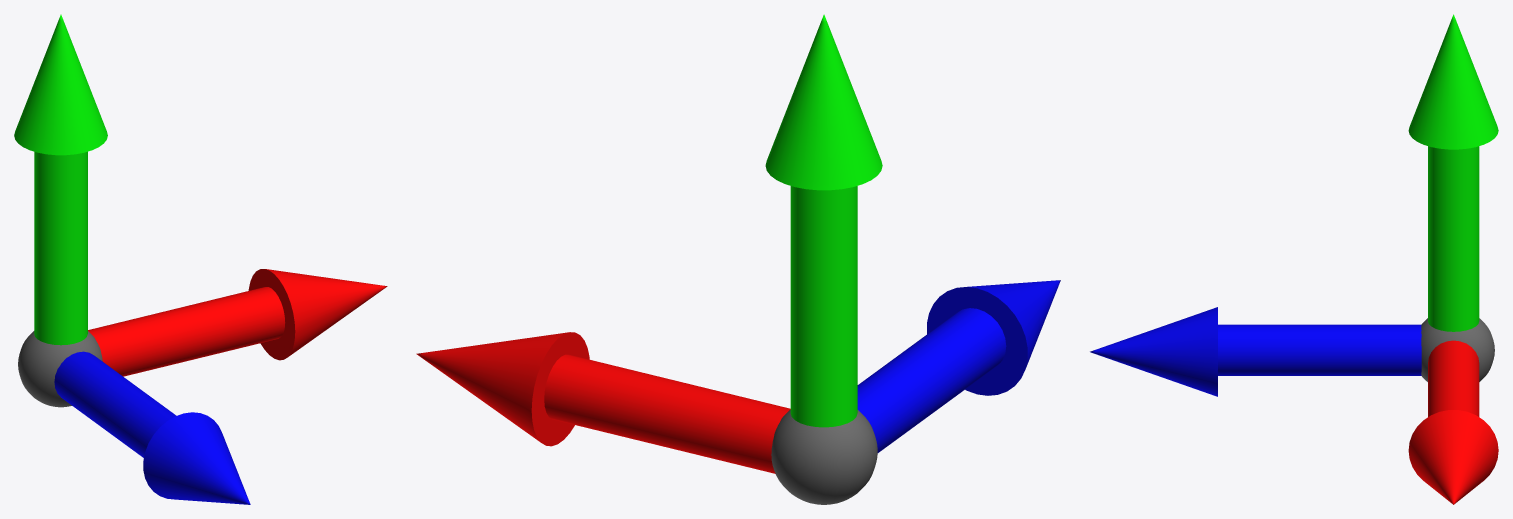
File: axis.obj
3 renders of one model, left to right at view 1: azimuth 30°, elevation 25°; view 2: azimuth 150°, elevation 25°; view 3: azimuth 270°, elevation 25°, orthographic. The views are drawn at different scales.
Parts seen in each view (by area): view 1: Cylinder_y, Cylinder_x, Cone_y, Cone_z, Cylinder_z, Cone_x, Sphere; view 2: Cylinder_y, Cylinder_x, Cone_y, Cylinder_z, Cone_x, Sphere, Cone_z; view 3: Cylinder_z, Cylinder_y, Cone_y, Cone_x, Cone_z, Cylinder_x, Sphere.
Boxes of the visible parts, x1,y1,x2,y2 form: Cylinder_y: (34,151,87,345); Cylinder_x: (88,287,285,376); Cone_y: (14,14,107,155); Cone_z: (143,412,250,504); Cylinder_z: (54,351,176,457); Cone_x: (248,269,387,360); Sphere: (18,331,102,407); Cylinder_y: (790,186,857,427); Cylinder_x: (544,354,790,473); Cone_y: (765,14,882,190); Cylinder_z: (857,308,1006,452); Cone_x: (416,332,589,446); Sphere: (771,410,877,504); Cone_z: (927,280,1060,395); Cylinder_z: (1218,324,1421,375); Cylinder_y: (1428,146,1479,331); Cone_y: (1408,14,1498,149); Cone_x: (1408,410,1498,504); Cone_z: (1090,307,1217,396); Cylinder_x: (1428,340,1479,416); Sphere: (1421,318,1494,381).
Size of the model in its own units: 1.58 by 1.62 by 1.59.
4 materials, 4 textured.
